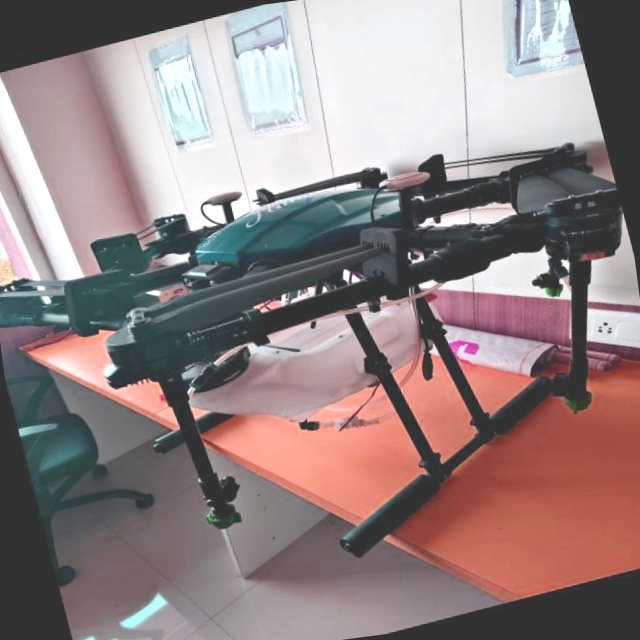agriculturedrone: (0, 85, 640, 640)
